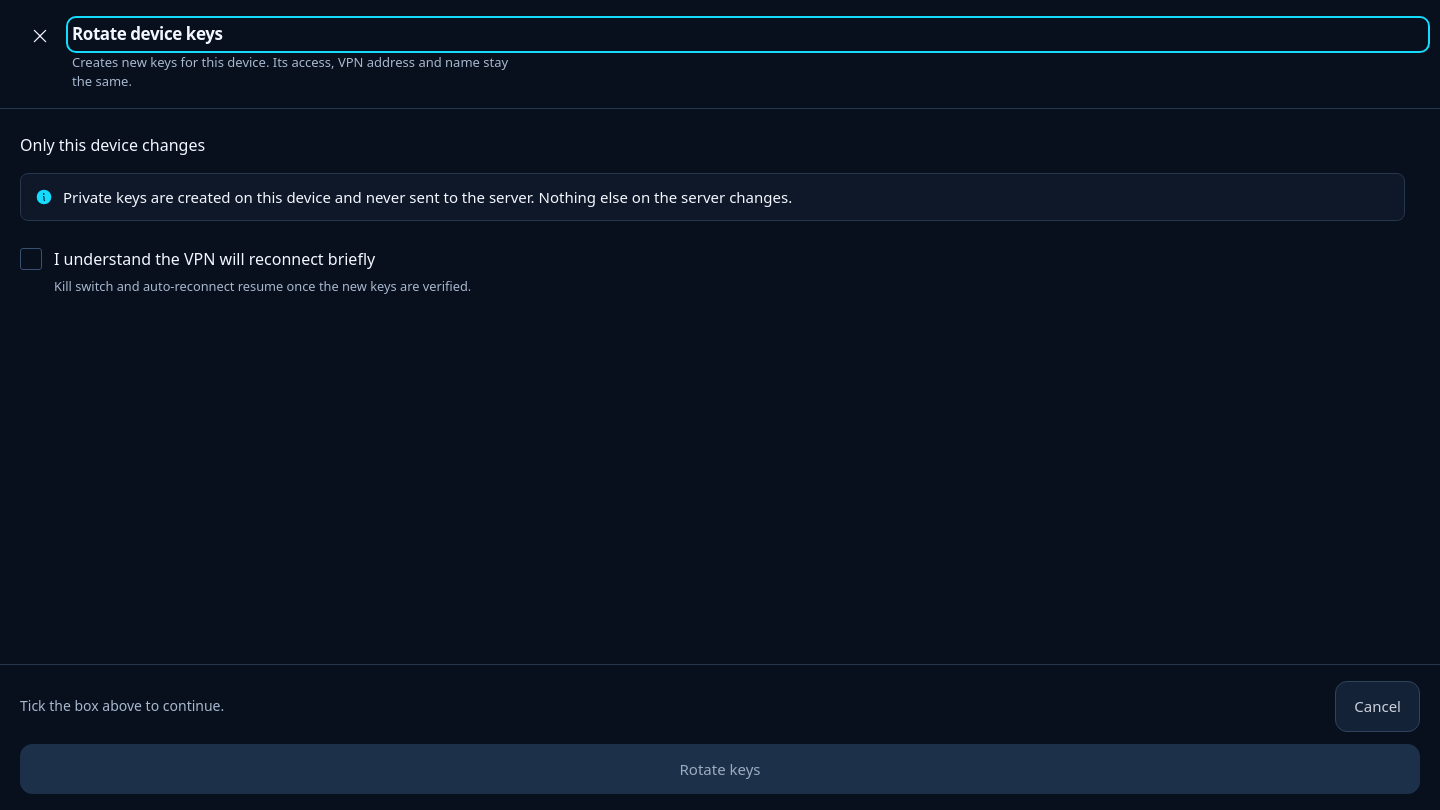
Scenario: keeps consent after a failed rotation, says the old keys still work and offers Try again
Expected: the text "Tick the box above to continue." is shown, [20,696,224,715]
Click the checkbox labelled "I understand the VPN will reconnect briefly".
click(31, 259)  # box [20,248,42,270]
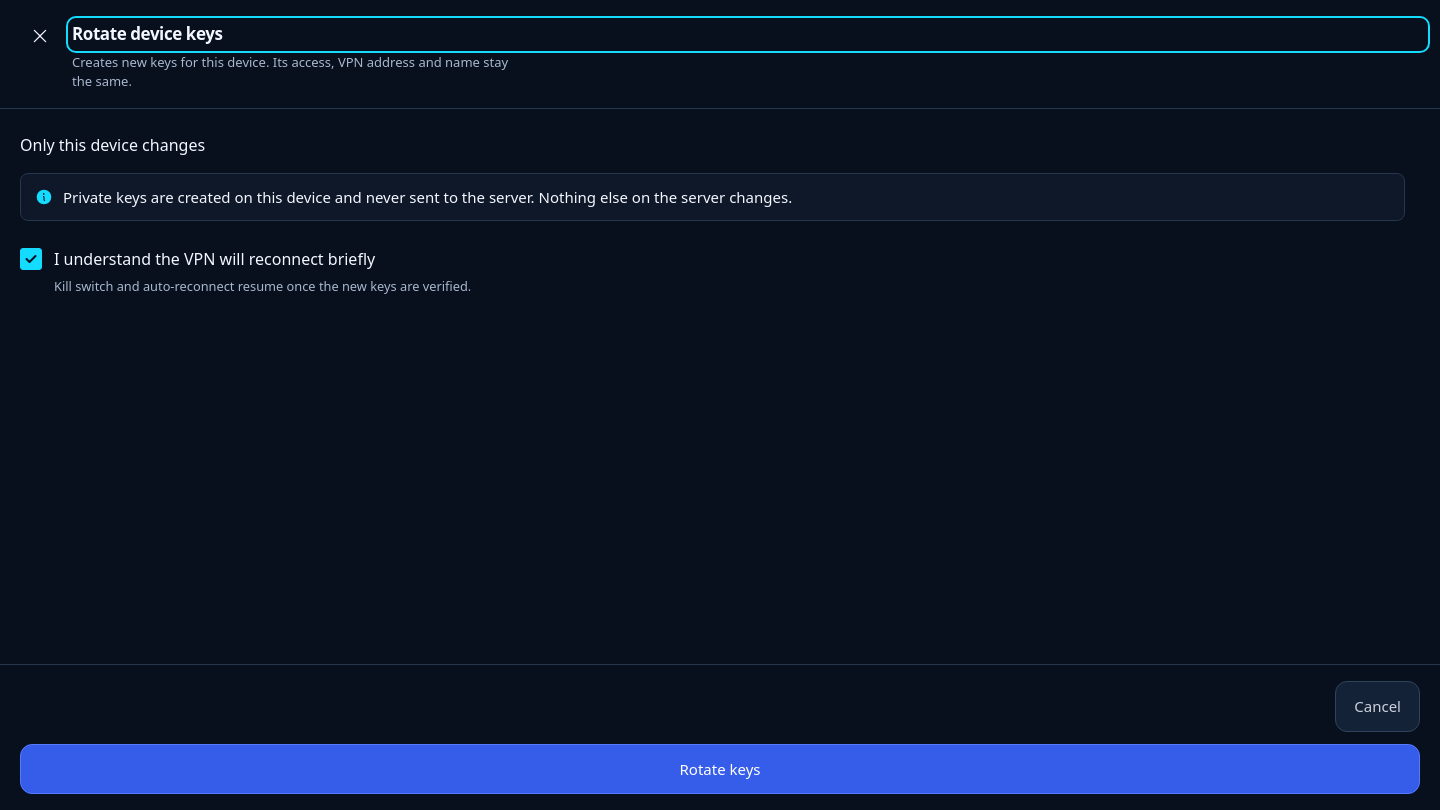
Click the button "Rotate keys".
click(720, 769)  # box [20,744,1420,794]
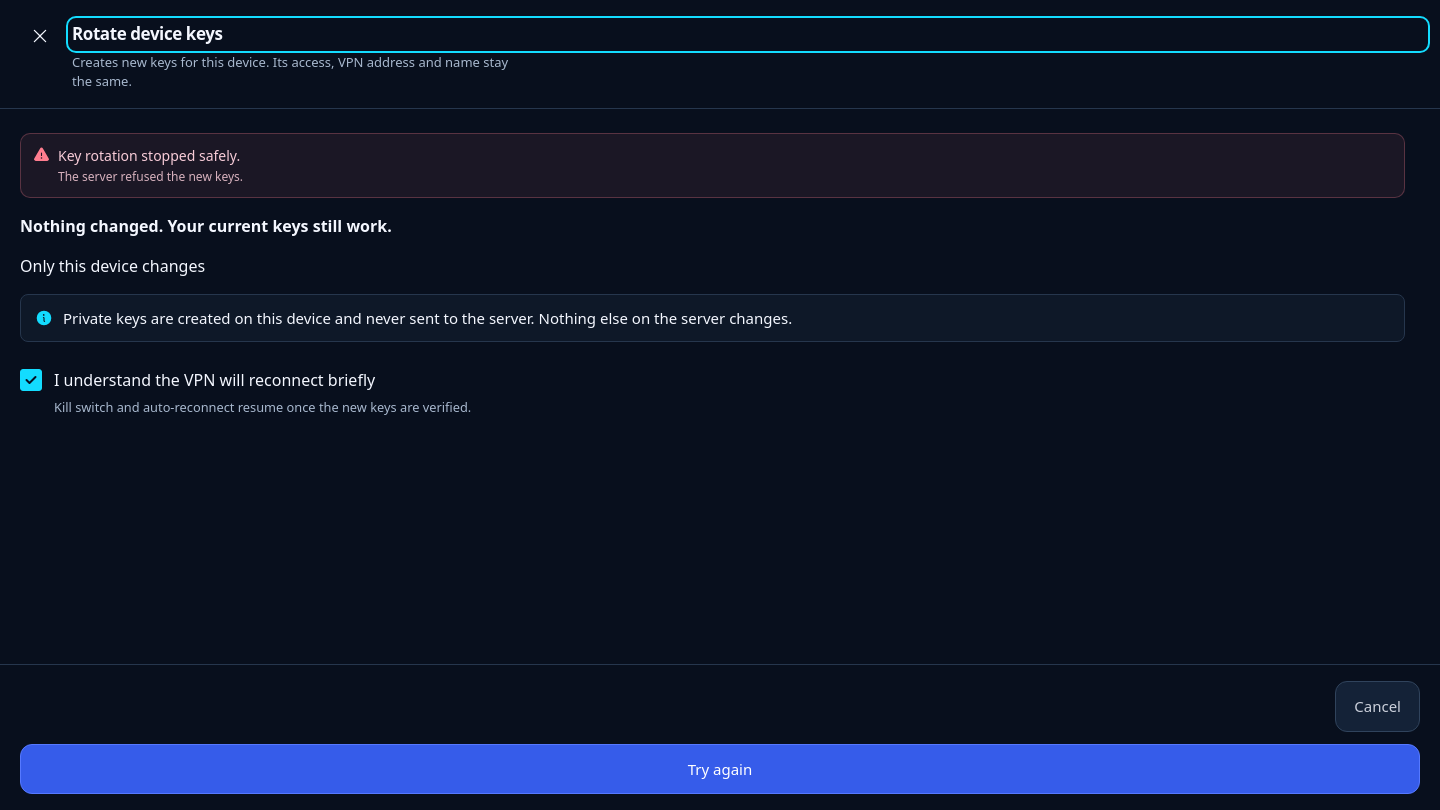
Expected: the checkbox is checked, [20,369,42,391]
Expected: the text "The server refused the new keys." is shown, [58,168,243,185]
Expected: the text "Nothing changed. Your current keys still work." is shown, [20,215,392,237]
Click the button "Try again".
click(720, 769)  # box [20,744,1420,794]
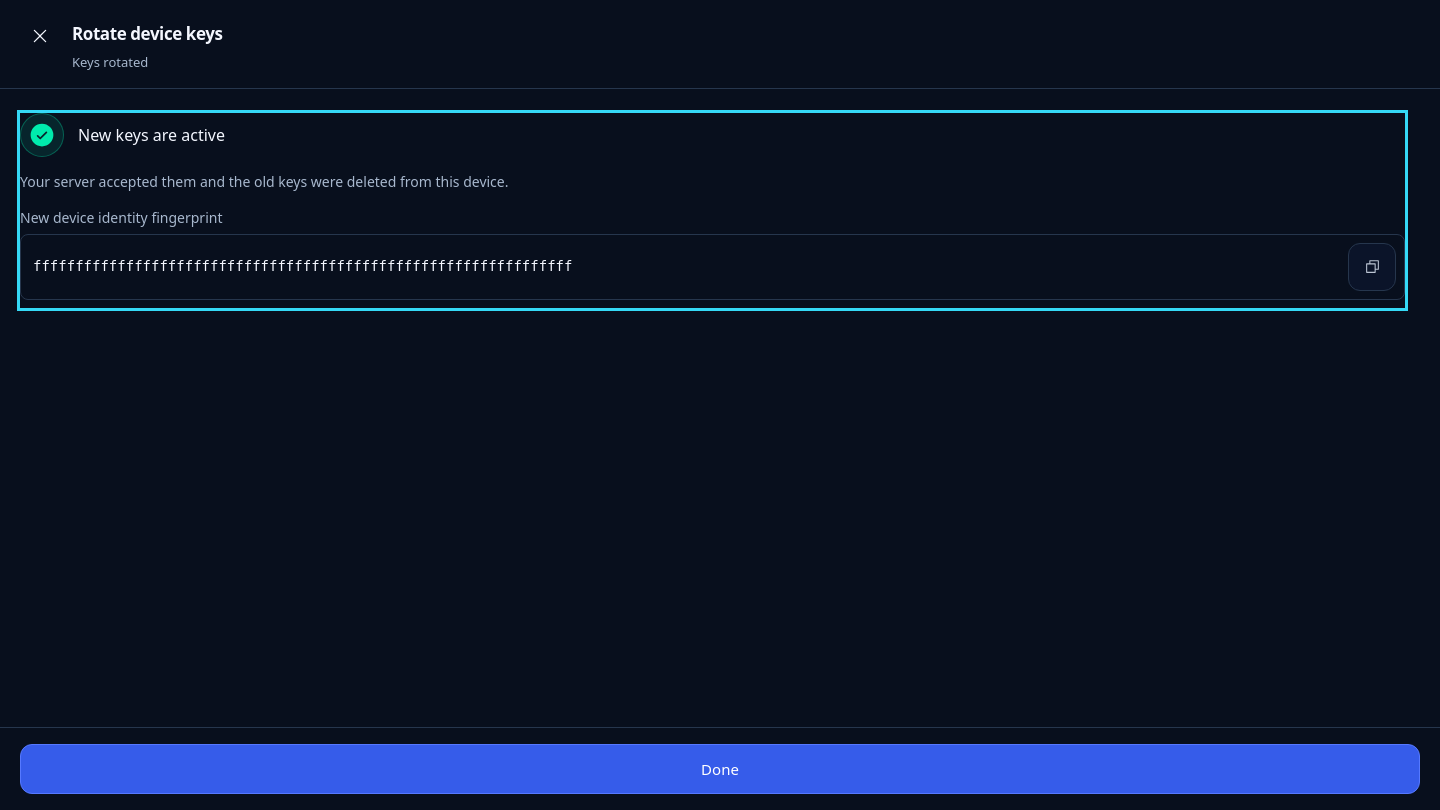
Expected: the heading "New keys are active" is shown, [78,124,225,146]
